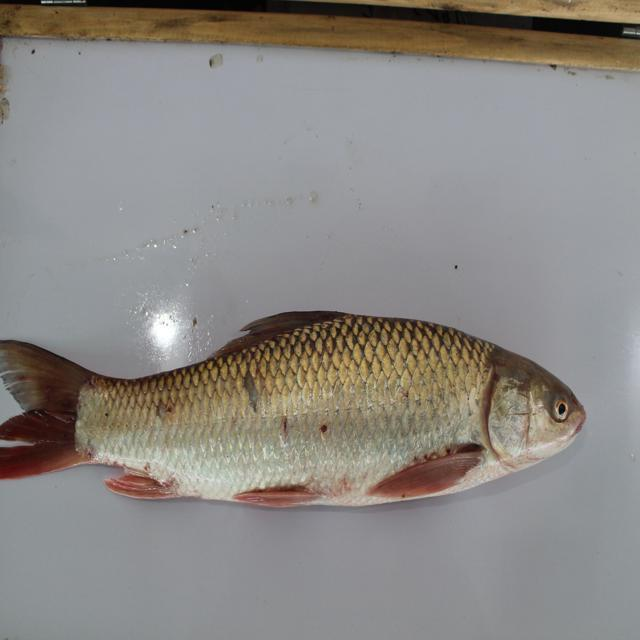Grass Carp: (2, 307, 589, 510)
